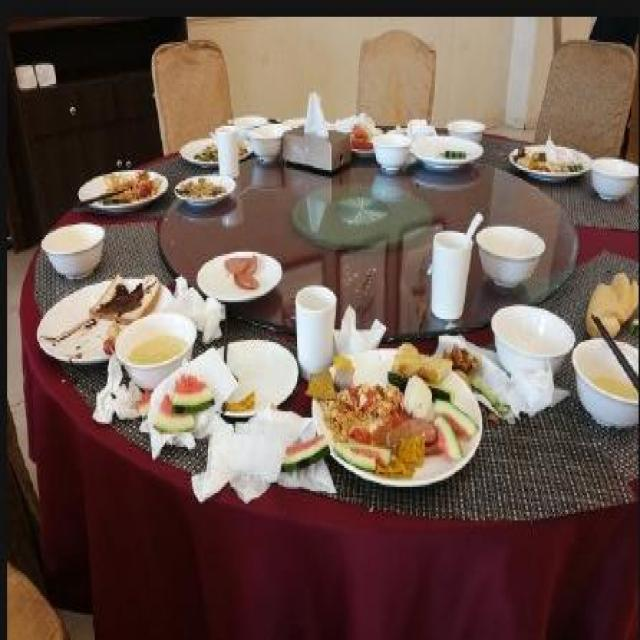Wet: (151, 369, 215, 430), (278, 430, 328, 470)
